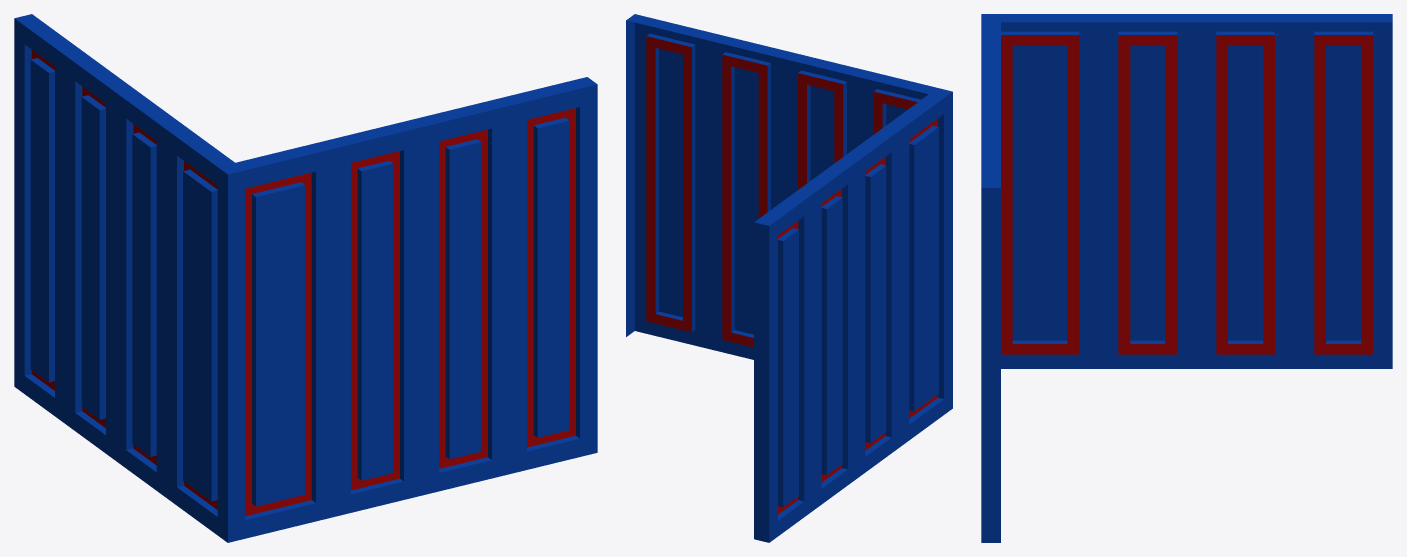
Rendered from WallDetailsCorner.fbx.
3 views of the same model, side by side, from view 1: azimuth 30°, elevation 25°; view 2: azimuth 150°, elevation 25°; view 3: azimuth 270°, elevation 25° (orthographic). The views are drawn at different scales.
Parts seen in each view (by area): view 1: WallDetailsCorner; view 2: WallDetailsCorner; view 3: WallDetailsCorner.
Boxes of the visible parts, box(x1,y1,x2,y2) form: WallDetailsCorner: box(14, 14, 597, 542); WallDetailsCorner: box(626, 14, 952, 542); WallDetailsCorner: box(981, 14, 1392, 542).
Bounding box in the file's own units: 105 × 100 × 105.
